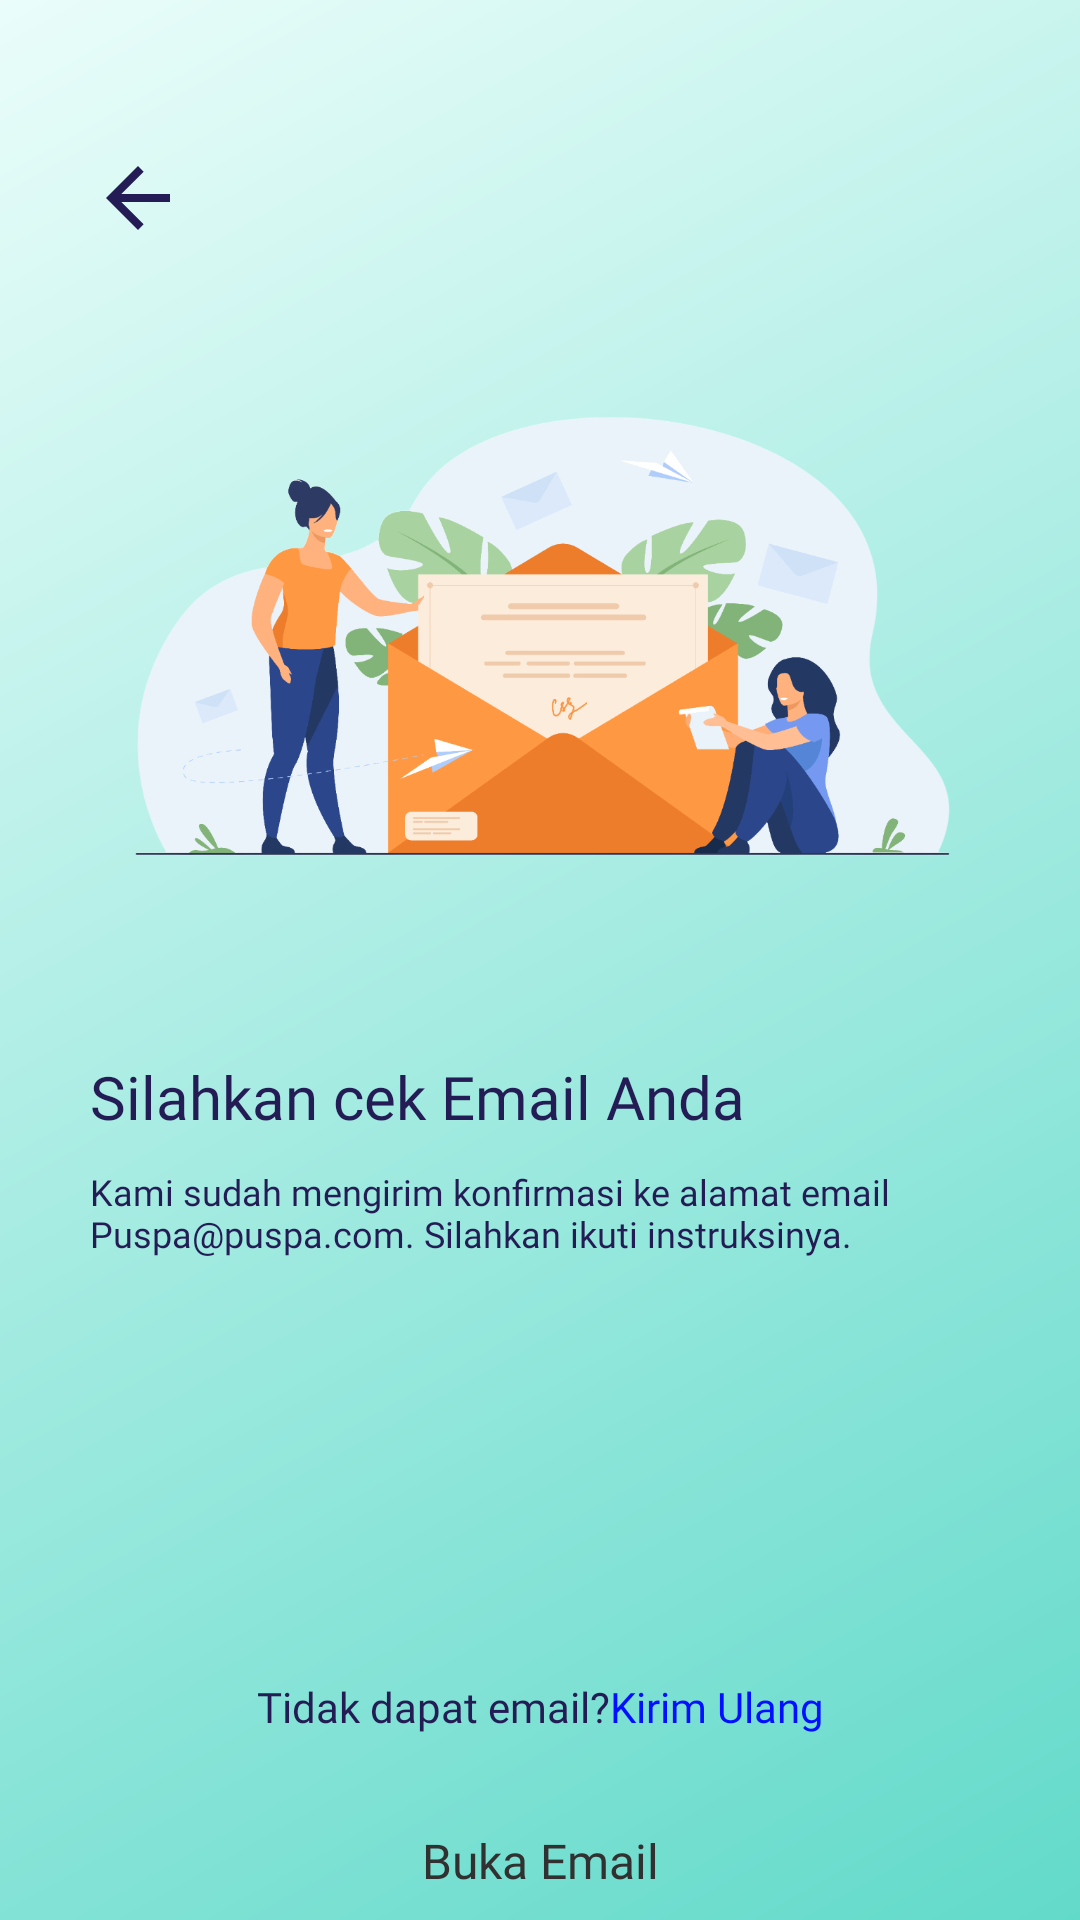

Screen size 1080×1920. Icon name, then its center in pixels as (x=x, y=y):
arrow back: (x=138, y=198)
